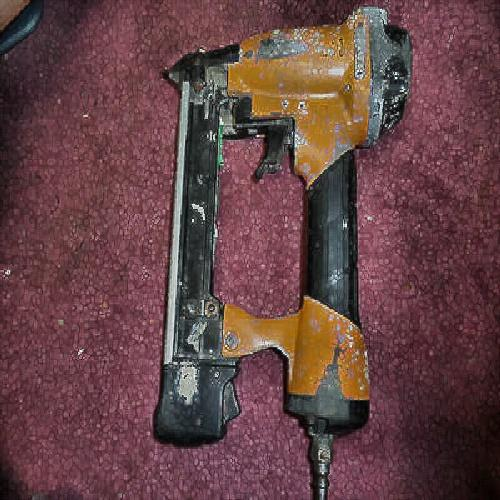stapler: (158, 23, 416, 457)
